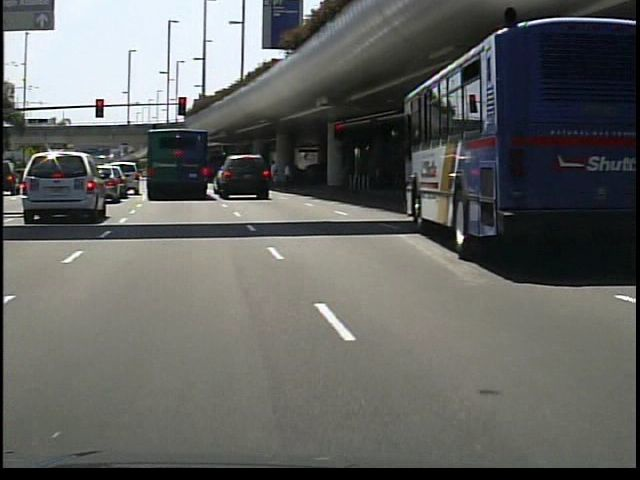person: (276, 157, 296, 194)
